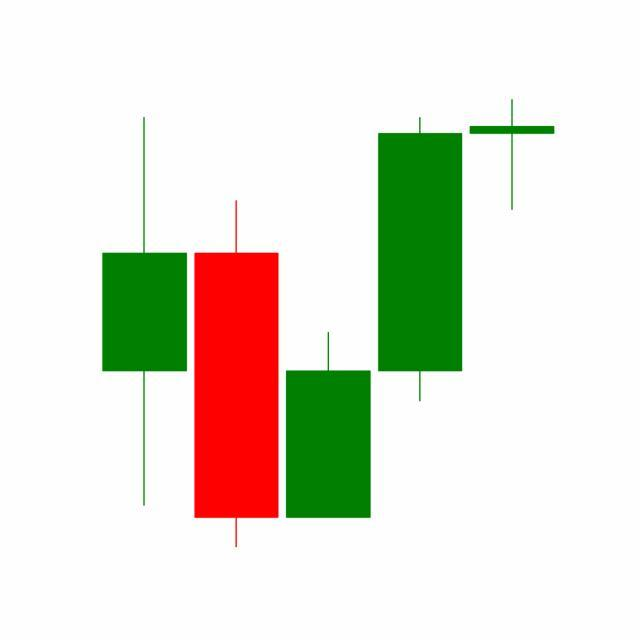Spinning Top: (466, 98, 559, 212)
